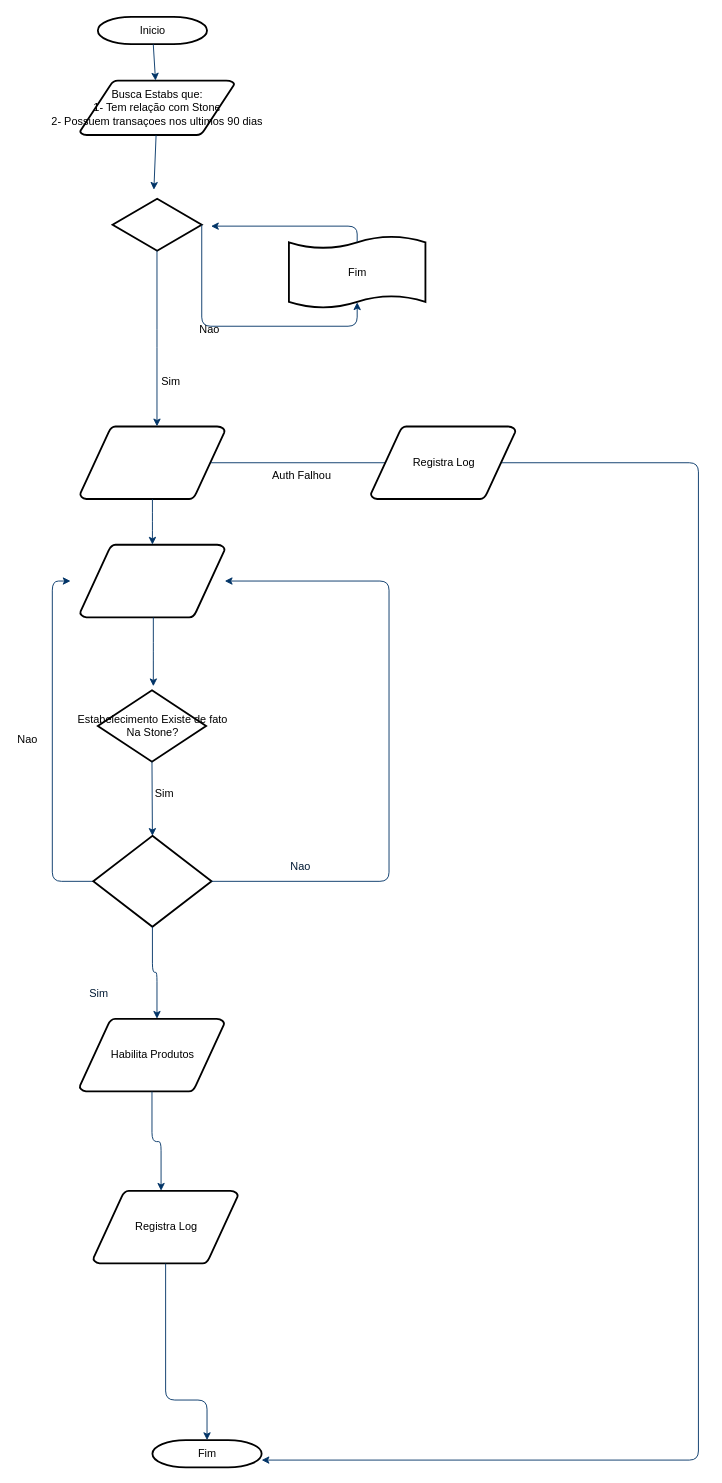
Image size: 722x1483. Some labels were removed from this diagram. Here are the shapes that lost their labels. From the top down, the centre of each, then its label:
At [156,224]: "Existem Estabelecimentos?".
At [152,462]: "Autentica Green/Stone".
At [152,580]: "Envia Dados do Estabelecimento".
At [152,880]: "Produtos estao inabilitados?".
